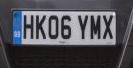6: (60, 14, 72, 40)
H: (23, 14, 34, 40)
K: (35, 14, 47, 41)
M: (90, 14, 101, 40)
O: (48, 14, 59, 40)
X: (102, 14, 114, 40)
Y: (77, 13, 89, 41)
